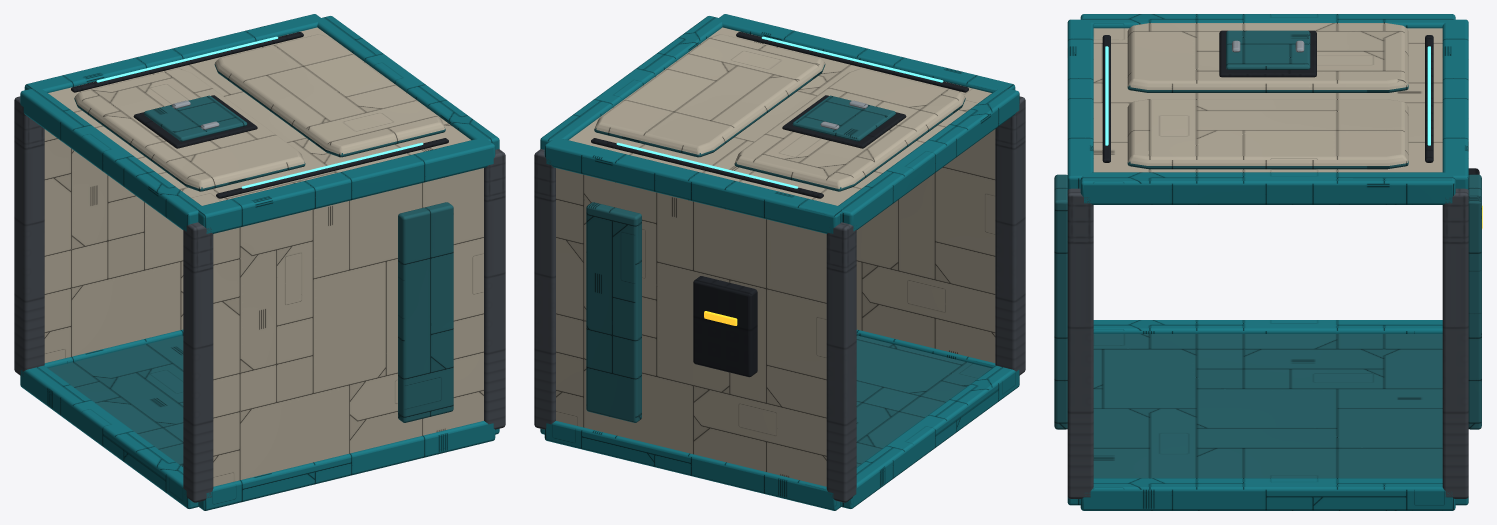
Rendered from airlock_vestibule_lod0.glb.
3 renders of one model, left to right at view 1: azimuth 30°, elevation 25°; view 2: azimuth 150°, elevation 25°; view 3: azimuth 270°, elevation 25°, orthographic. The views are drawn at different scales.
Parts seen in each view (by area): view 1: LOD0_Hull, LOD0_Livery, LOD0_Armor, LOD0_Mechanical, LOD0_MechanicalDark, LOD0_Lights_Cyan; view 2: LOD0_Hull, LOD0_Livery, LOD0_Armor, LOD0_Mechanical, LOD0_MechanicalDark, LOD0_Lights_Cyan; view 3: LOD0_Armor, LOD0_Hull, LOD0_Livery, LOD0_Mechanical, LOD0_MechanicalDark, LOD0_Lights_Cyan.
Part boxes in pixels (x1,y1,x2,y2): LOD0_Hull: (44, 27, 483, 486); LOD0_Livery: (20, 14, 499, 510); LOD0_Armor: (48, 62, 453, 466); LOD0_Mechanical: (14, 96, 505, 502); LOD0_MechanicalDark: (71, 32, 448, 198); LOD0_Lights_Cyan: (96, 36, 423, 188); LOD0_Hull: (556, 27, 995, 486); LOD0_Livery: (540, 14, 1019, 510); LOD0_Armor: (586, 64, 991, 466); LOD0_Mechanical: (534, 96, 1025, 502); LOD0_MechanicalDark: (591, 32, 968, 377); LOD0_Lights_Cyan: (616, 36, 943, 188); LOD0_Armor: (1054, 30, 1481, 478); LOD0_Hull: (1093, 23, 1442, 172); LOD0_Livery: (1067, 14, 1468, 510); LOD0_Mechanical: (1067, 188, 1468, 498); LOD0_MechanicalDark: (1102, 30, 1479, 174); LOD0_Lights_Cyan: (1105, 46, 1430, 145).
Bounding box in the file's own units: 4.28 × 4.1 × 4.57.
8 materials, 6 textured.
